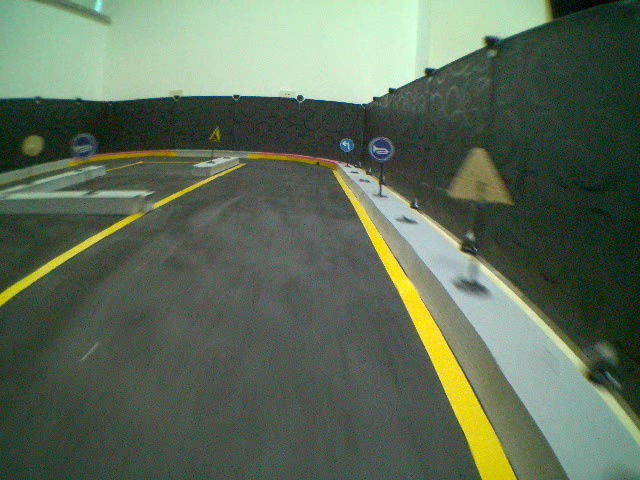fast: (207, 123, 224, 144)
horn: (69, 131, 97, 160), (369, 135, 395, 163)
turn: (339, 137, 355, 154)
